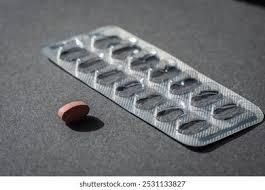pill_Strip: (42, 26, 263, 146), (57, 100, 89, 123), (128, 53, 159, 71), (169, 77, 199, 94), (190, 90, 221, 106), (96, 68, 125, 85), (213, 103, 243, 119), (150, 65, 178, 82), (111, 43, 140, 59), (135, 93, 164, 109), (116, 80, 143, 97), (179, 119, 209, 134), (78, 57, 106, 73), (60, 47, 89, 61), (156, 106, 183, 121), (93, 35, 121, 48)
